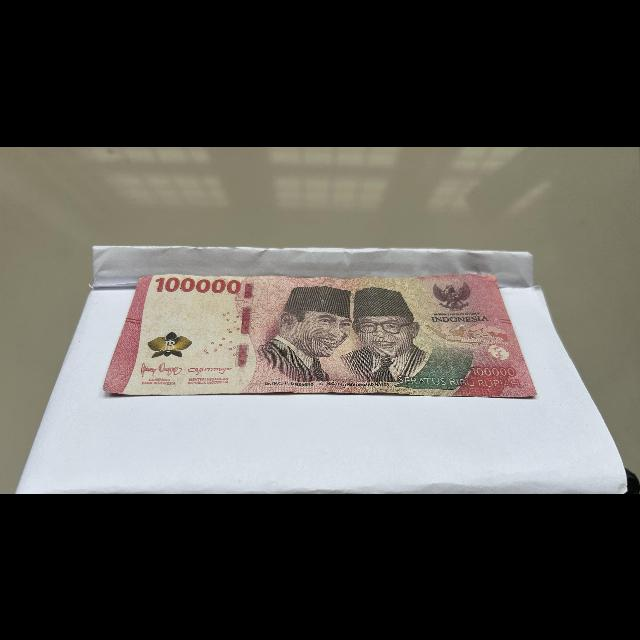Palsu-100k: (98, 270, 541, 400)
Tinta-Palsu-100k: (146, 330, 195, 358)
